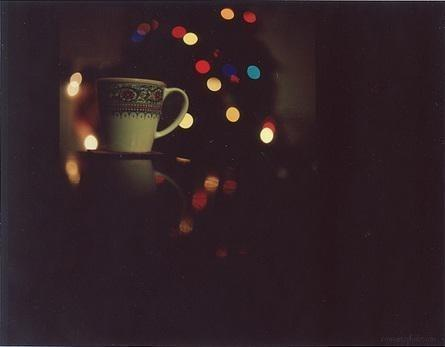cup-handle: (95, 76, 189, 154)
